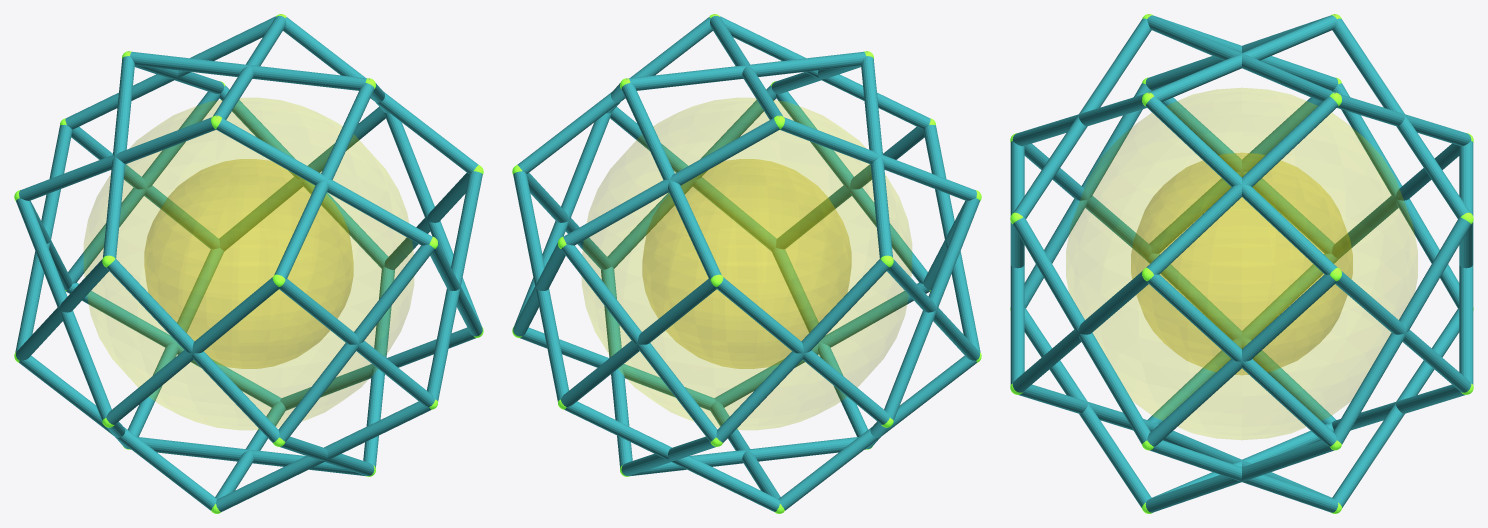
The model's file is planet_business_club.glb.
3 renders of one model, left to right at view 1: azimuth 30°, elevation 25°; view 2: azimuth 150°, elevation 25°; view 3: azimuth 270°, elevation 25°, orthographic. The views are drawn at different scales.
Visible parts, largest first — view 1: Object_2, Object_7, Object_3, Object_6, Object_4; view 2: Object_2, Object_7, Object_3, Object_6, Object_4; view 3: Object_2, Object_7, Object_3, Object_6, Object_4.
Boxes of the visible parts, <box> form: Object_2: <box>84,98,413,429</box>; Object_7: <box>15,16,482,511</box>; Object_3: <box>144,159,353,368</box>; Object_6: <box>16,16,481,498</box>; Object_4: <box>14,14,483,513</box>; Object_2: <box>582,98,911,429</box>; Object_7: <box>513,16,980,511</box>; Object_3: <box>642,159,851,368</box>; Object_6: <box>514,16,979,498</box>; Object_4: <box>512,14,981,513</box>; Object_2: <box>1066,88,1417,439</box>; Object_7: <box>1012,16,1471,512</box>; Object_3: <box>1131,153,1352,374</box>; Object_6: <box>1010,15,1473,497</box>; Object_4: <box>1010,14,1473,513</box>.
Bounding box in the file's own units: 2.49 × 2.49 × 2.49.
